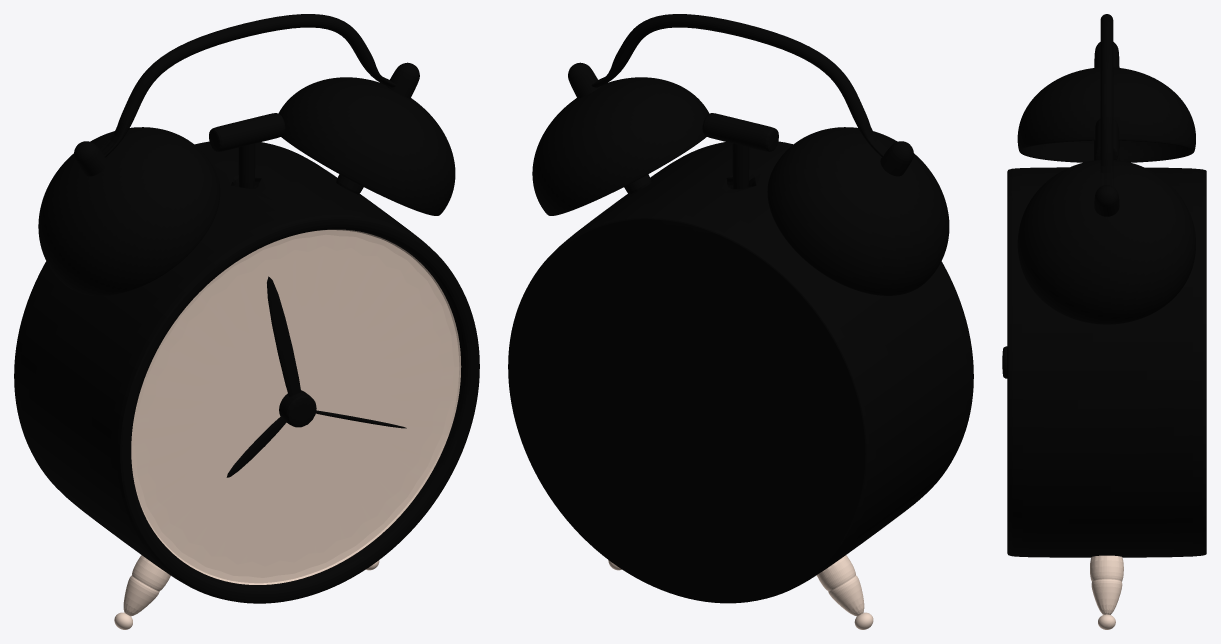
Rendered from mezamashi.fbx.
The picture shows the model from 3 angles, left to right: view 1: azimuth 30°, elevation 25°; view 2: azimuth 150°, elevation 25°; view 3: azimuth 270°, elevation 25°; orthographic projection. The views are drawn at different scales.
Parts seen in each view (by area): view 1: Cylinder; view 2: Cylinder; view 3: Cylinder.
Part boxes in pixels (<box>): Cylinder: <box>14,14,479,629</box>; Cylinder: <box>508,14,973,629</box>; Cylinder: <box>1002,14,1206,629</box>.
Bounding box in the file's own units: 8.16 × 16.68 × 23.52.
Materials: 1 (1 with a texture image).
